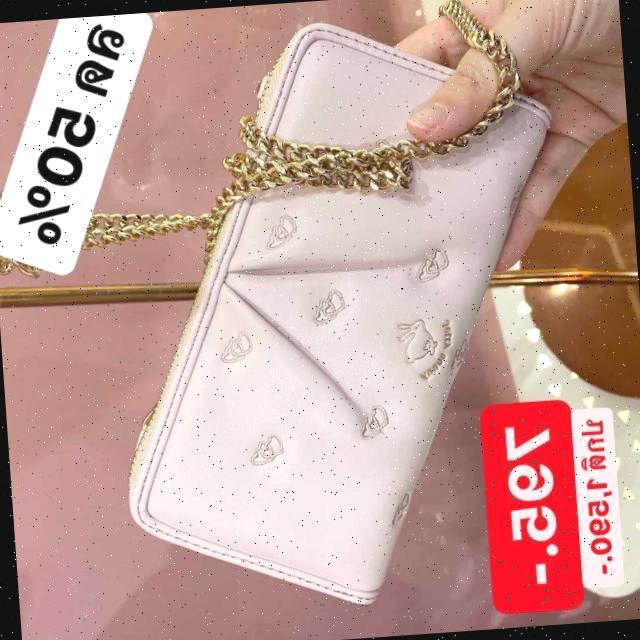Handbag: (85, 0, 589, 640)
